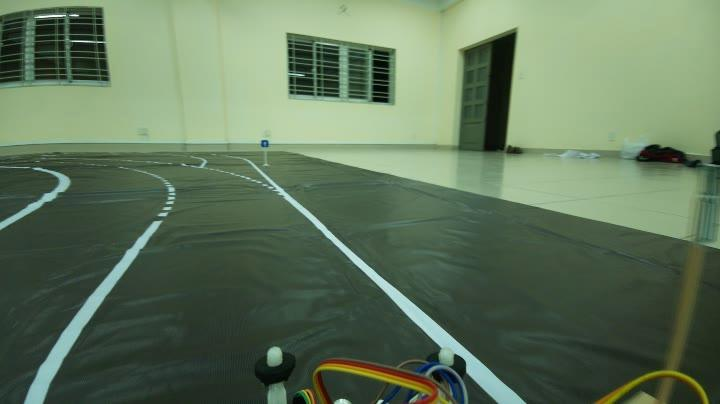highway_entry: (690, 155, 720, 249)
